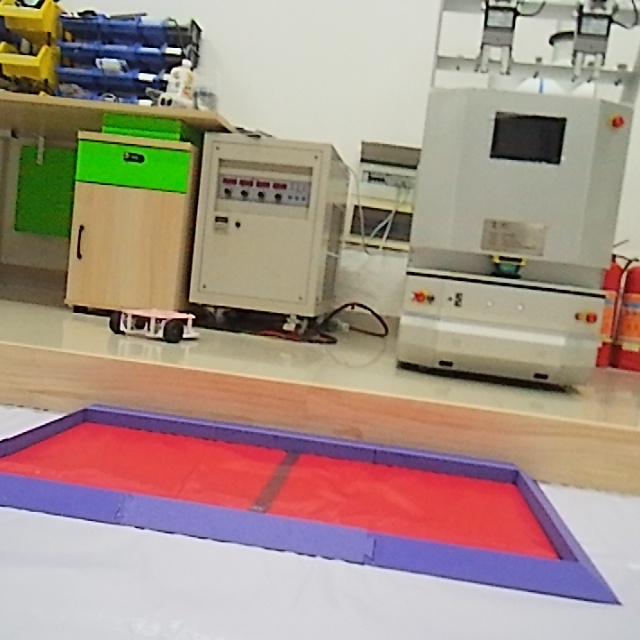zone1: (0, 390, 631, 609)
